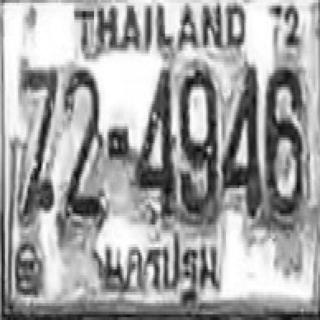N02: (59, 68, 105, 233), (60, 67, 103, 227), (18, 62, 58, 219)
N04: (220, 62, 261, 216), (133, 64, 174, 216)
N06: (264, 65, 304, 222)
N09: (178, 63, 218, 218)
P28: (100, 234, 223, 311)
